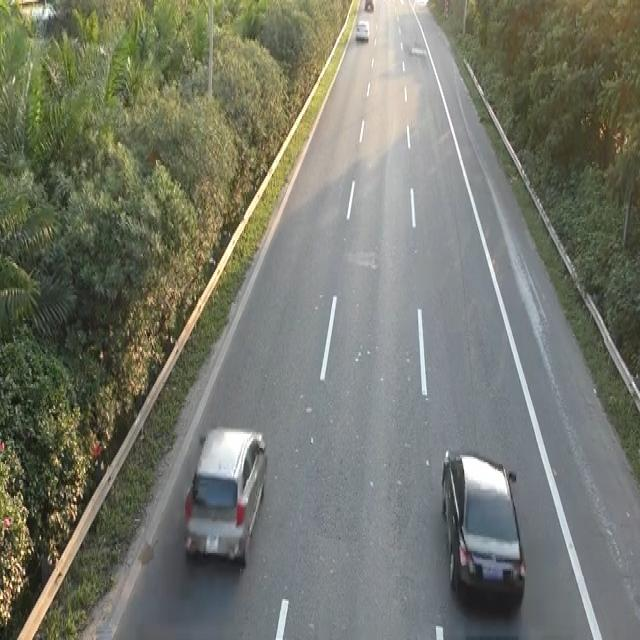bus: (439, 444, 527, 606), (181, 421, 268, 567)
